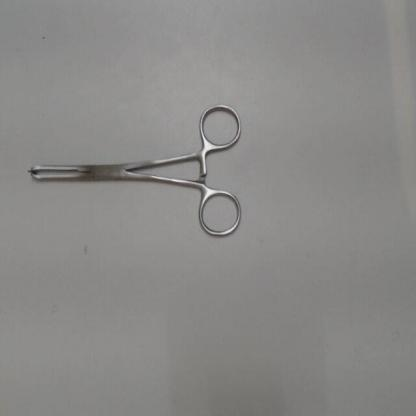Allis Tissue Forceps: (20, 98, 248, 250)
